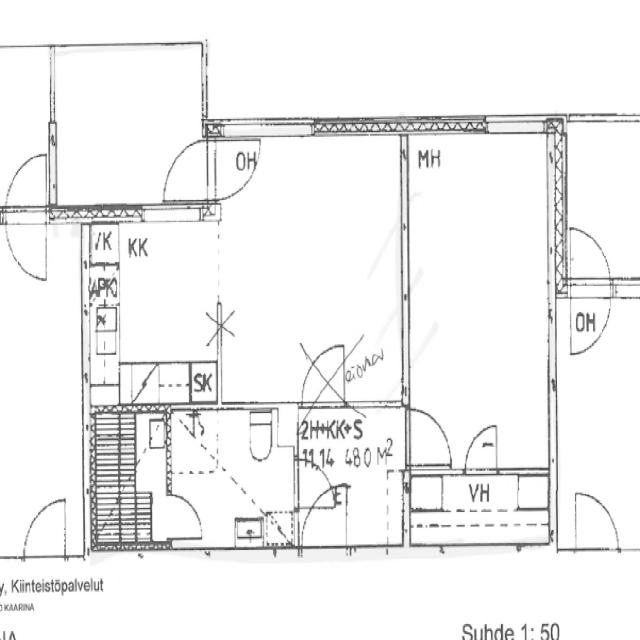door: (2, 144, 52, 282), (569, 484, 621, 554), (5, 214, 53, 286), (161, 135, 209, 205), (300, 336, 348, 406), (21, 491, 68, 562), (407, 401, 454, 469), (566, 221, 613, 288), (8, 148, 51, 219), (165, 486, 208, 544), (462, 418, 502, 478), (295, 456, 336, 511)
window: (218, 116, 311, 140), (139, 199, 207, 231), (346, 394, 390, 416), (612, 272, 640, 301)
zone: (218, 122, 412, 448), (407, 123, 552, 482), (82, 211, 221, 405), (50, 45, 204, 210), (166, 406, 298, 547), (297, 404, 408, 550), (564, 118, 640, 282), (91, 407, 171, 547), (406, 470, 545, 548)
